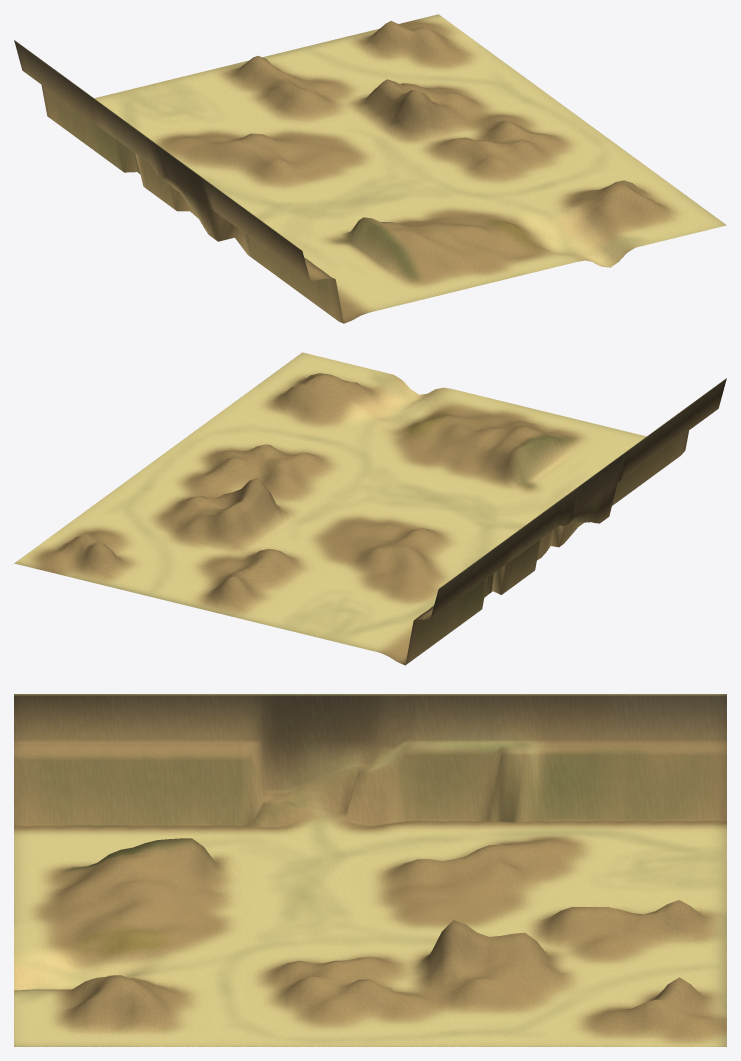
File: desert.dae
The picture shows the model from 3 angles, top to bottom: view 1: azimuth 30°, elevation 25°; view 2: azimuth 150°, elevation 25°; view 3: azimuth 270°, elevation 25°; orthographic projection. The views are drawn at different scales.
Parts seen in each view (by area): view 1: group_0; view 2: group_0; view 3: group_0.
Boxes of the visible parts, x1,y1,x2,y2 form: group_0: (14,14,726,323); group_0: (14,352,726,665); group_0: (14,694,726,1046).
Bounding box in the file's own units: 42106 × 49536 × 8814.
Materials: 1 (1 with a texture image).
